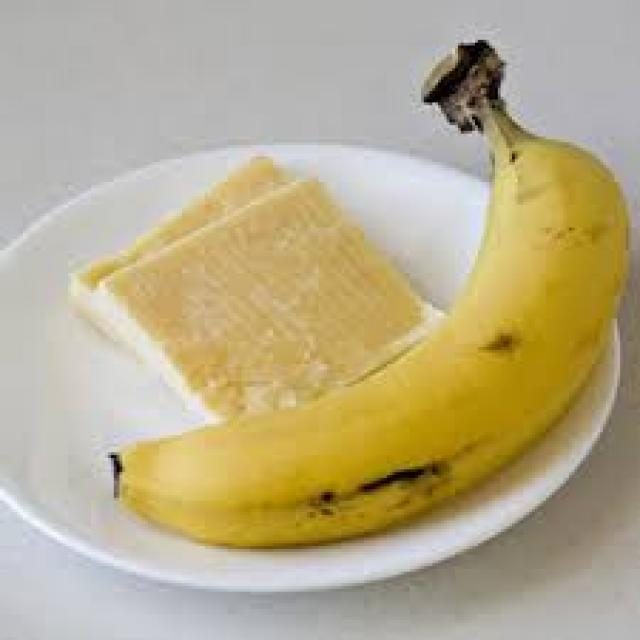banana: (108, 33, 630, 546)
